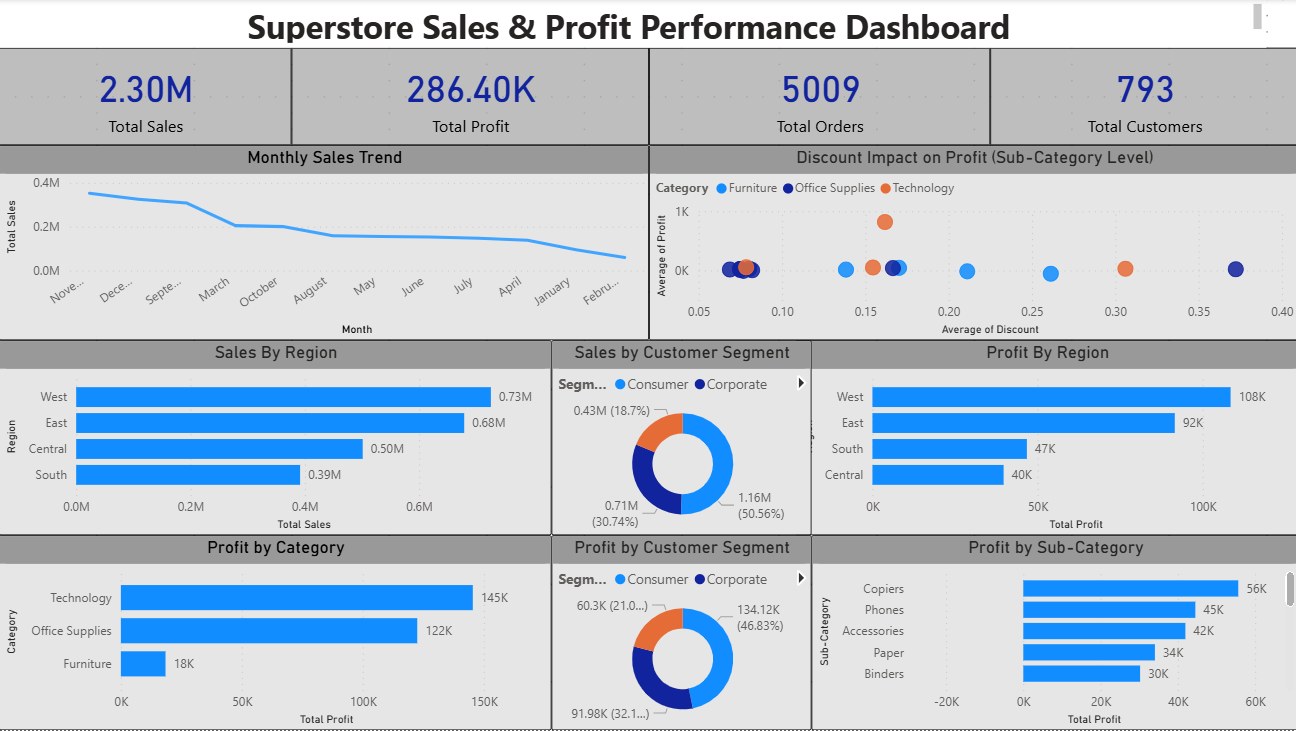

What the dashboard file says about the page in this screenshot:
{"tool":"powerbi","page":{"name":"Page 1","canvas":[1280,720],"ordinal":0},"visuals":[{"type":"card","fields":{"Values":["cleaned_superstore_data.Total Sales"]},"box":[0,48,288,96],"z":0},{"type":"card","fields":{"Values":["cleaned_superstore_data.Total Profit"]},"box":[288,48,352,96],"z":1000},{"type":"card","fields":{"Values":["cleaned_superstore_data.Total Customers"]},"box":[976,48,304,96],"z":2000},{"type":"card","fields":{"Values":["cleaned_superstore_data.Total Orders"]},"box":[640,48,336,96],"z":3000},{"type":"lineChart","title":"Monthly Sales Trend","fields":{"Category":["cleaned_superstore_data.Order Month Name"],"Y":["cleaned_superstore_data.Total Sales"]},"box":[0,144,640,192],"z":4000},{"type":"clusteredBarChart","title":"Sales By Region","fields":{"Category":["cleaned_superstore_data.Region"],"Y":["cleaned_superstore_data.Total Sales"]},"box":[0,336,544,192],"z":5000},{"type":"clusteredBarChart","title":"Profit By Region","fields":{"Category":["cleaned_superstore_data.Region"],"Y":["cleaned_superstore_data.Total Profit"]},"box":[784,336,496,192],"z":6000},{"type":"clusteredBarChart","title":" Profit by Category","fields":{"Y":["cleaned_superstore_data.Total Profit"],"Category":["cleaned_superstore_data.Category"]},"box":[0,528,544,192],"z":7000},{"type":"clusteredBarChart","title":" Profit by Sub-Category","fields":{"Y":["cleaned_superstore_data.Total Profit"],"Category":["cleaned_superstore_data.Sub-Category"]},"box":[800,528,480,192],"z":8000},{"type":"scatterChart","title":"Discount Impact on Profit (Sub-Category Level)","fields":{"X":["Avg(cleaned_superstore_data.Discount)"],"Y":["Avg(cleaned_superstore_data.Profit)"],"Series":["cleaned_superstore_data.Category"],"Category":["cleaned_superstore_data.Sub-Category"]},"box":[640,144,640,192],"z":9000},{"type":"donutChart","title":"Sales by Customer Segment","fields":{"Category":["cleaned_superstore_data.Segment"],"Y":["cleaned_superstore_data.Total Sales"]},"box":[544,336,256,192],"z":10000},{"type":"donutChart","title":"Profit by Customer Segment","fields":{"Category":["cleaned_superstore_data.Segment"],"Y":["cleaned_superstore_data.Total Profit"]},"box":[544,528,256,192],"z":11000},{"type":"textbox","box":[0,0,1248,48],"z":12000}]}

Visuals, with their boxes in screenshot pixels (x1, y1, x2, y2), scaled from the page's 1280x720 canvas onto the 1296x731 screenshot:
card - cleaned_superstore_data.Total Sales: bbox=(0, 49, 292, 146)
card - cleaned_superstore_data.Total Profit: bbox=(292, 49, 648, 146)
card - cleaned_superstore_data.Total Customers: bbox=(988, 49, 1295, 146)
card - cleaned_superstore_data.Total Orders: bbox=(648, 49, 988, 146)
"Monthly Sales Trend" lineChart: bbox=(0, 146, 648, 341)
"Sales By Region" clusteredBarChart: bbox=(0, 341, 551, 536)
"Profit By Region" clusteredBarChart: bbox=(794, 341, 1295, 536)
" Profit by Category" clusteredBarChart: bbox=(0, 536, 551, 730)
" Profit by Sub-Category" clusteredBarChart: bbox=(810, 536, 1295, 730)
"Discount Impact on Profit (Sub-Category Level)" scatterChart: bbox=(648, 146, 1295, 341)
"Sales by Customer Segment" donutChart: bbox=(551, 341, 810, 536)
"Profit by Customer Segment" donutChart: bbox=(551, 536, 810, 730)
textbox: bbox=(0, 0, 1264, 49)
